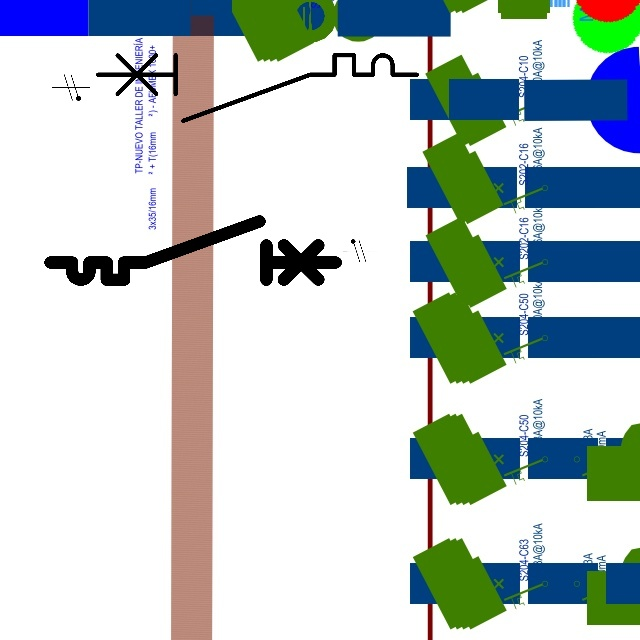interruptor_termomagnetico: (89, 47, 424, 129), (43, 214, 343, 287)
